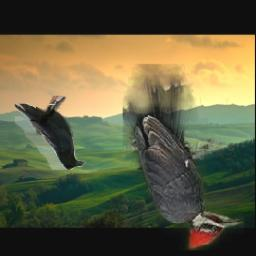Crow: (14, 97, 85, 171)
Woodpecker: (122, 65, 243, 251)
